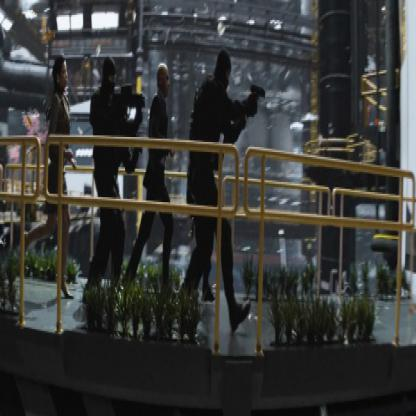Gun: (108, 76, 147, 113), (245, 74, 268, 104)
